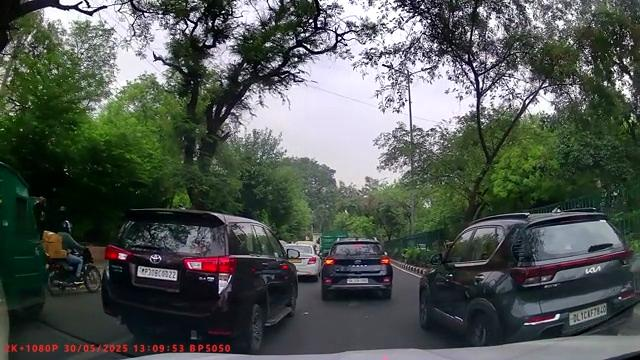motorcycle_with_helmet: (45, 219, 102, 296)
